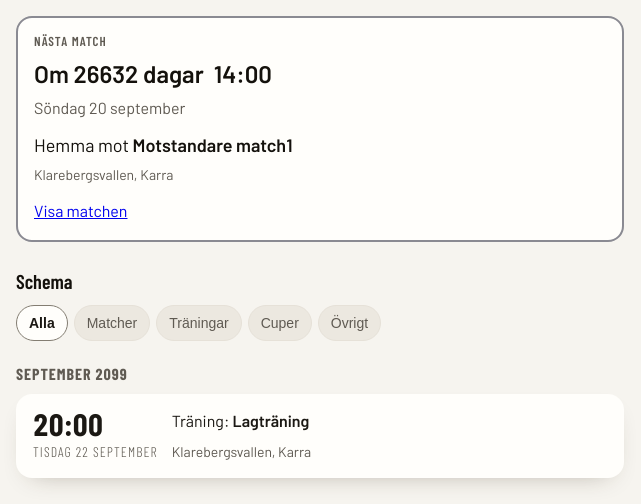
Test: EventListSection — kortet och listan tillsammans › filtrerar schemat per händelsetyp (#304)
Expected: the text "Lagträning" is shown, [232,411,309,430]
Expected: the text "Motstandare match1" is shown, [133,134,292,156]
Note: Filtrera till Träningar → matchen försvinner, träningen är kvar.
Click the button "Träningar" at (199, 323), box [156,305,242,341]
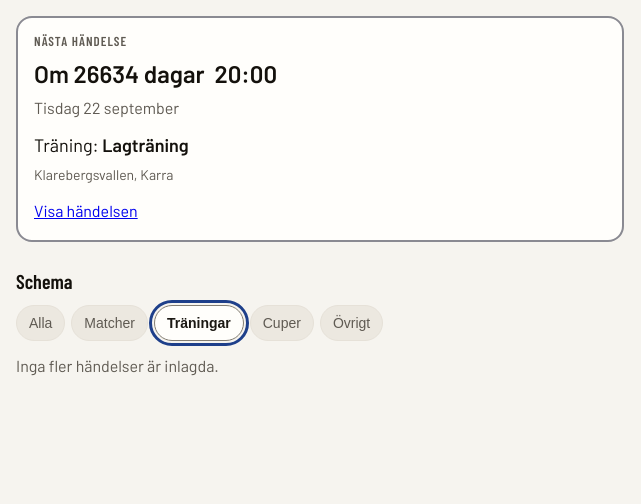
Expected: the text "Lagträning" is shown, [102,134,189,156]
Result: the text "Motstandare match1" is gone
